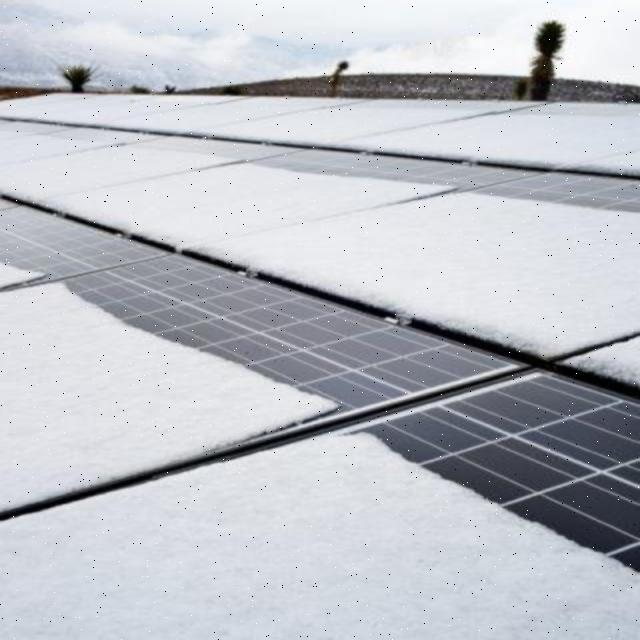electrical damage: (13, 270, 630, 634), (5, 123, 632, 381)
snow covered: (10, 82, 638, 176)
